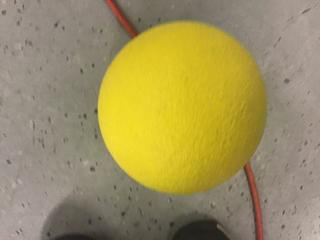power_cell: (93, 18, 276, 202)
